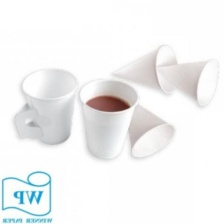paper_cup: (9, 62, 82, 149), (75, 73, 142, 164), (107, 40, 183, 97), (152, 51, 224, 110), (121, 100, 179, 163)
